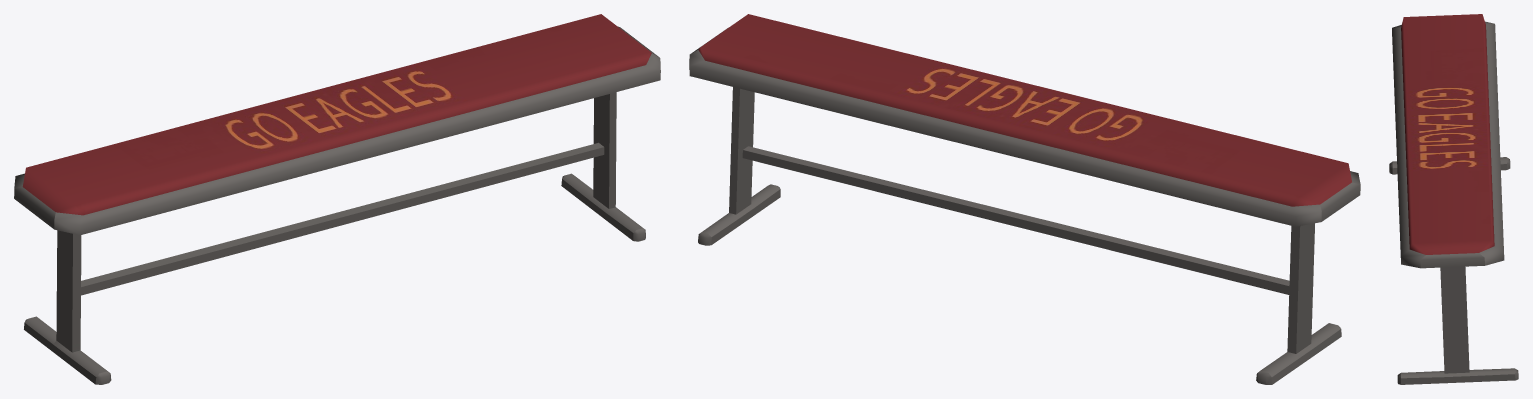
The model's file is Gym Bench.fbx.
3 renders of one model, left to right at view 1: azimuth 30°, elevation 25°; view 2: azimuth 150°, elevation 25°; view 3: azimuth 270°, elevation 25°, orthographic. The views are drawn at different scales.
Parts seen in each view (by area): view 1: gymBench; view 2: gymBench; view 3: gymBench.
Boxes of the visible parts, x1,y1,x2,y2 form: gymBench: [14, 14, 660, 384]; gymBench: [689, 14, 1360, 384]; gymBench: [1389, 14, 1518, 384].
Size of the model in its own units: 468 by 138 by 104.
